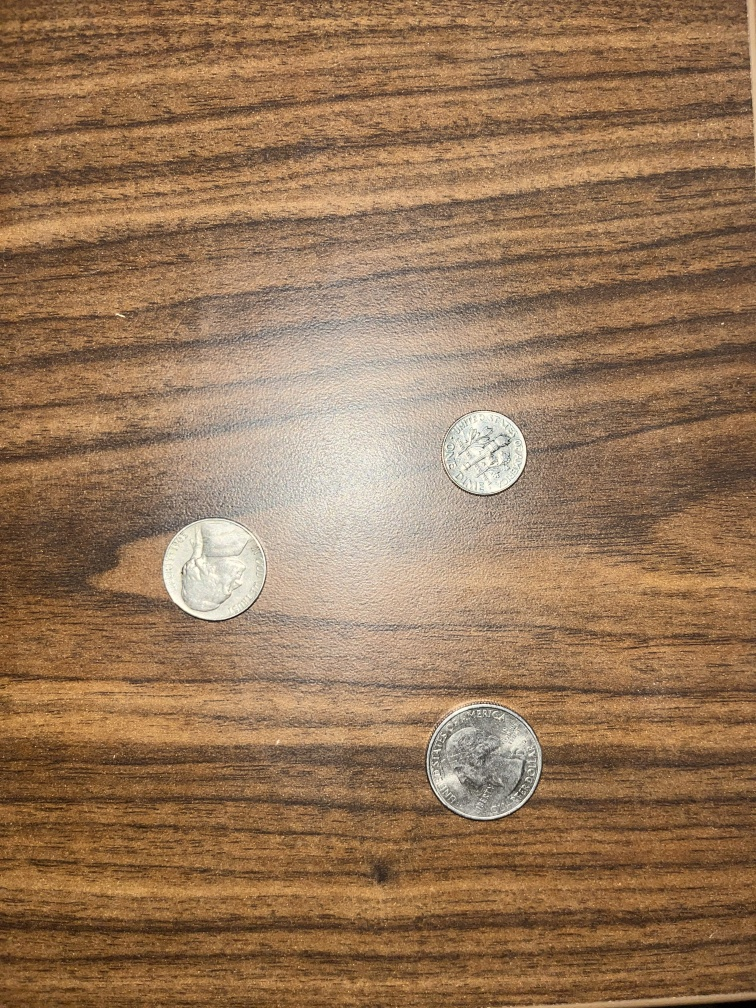dime: (436, 404, 532, 505)
nickel: (158, 513, 275, 629)
quarter: (422, 699, 549, 825)
